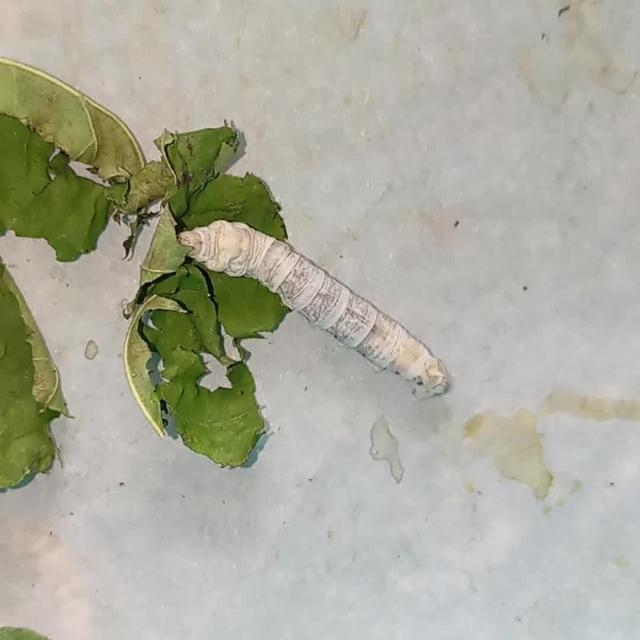Grasserie: (175, 194, 459, 404)
